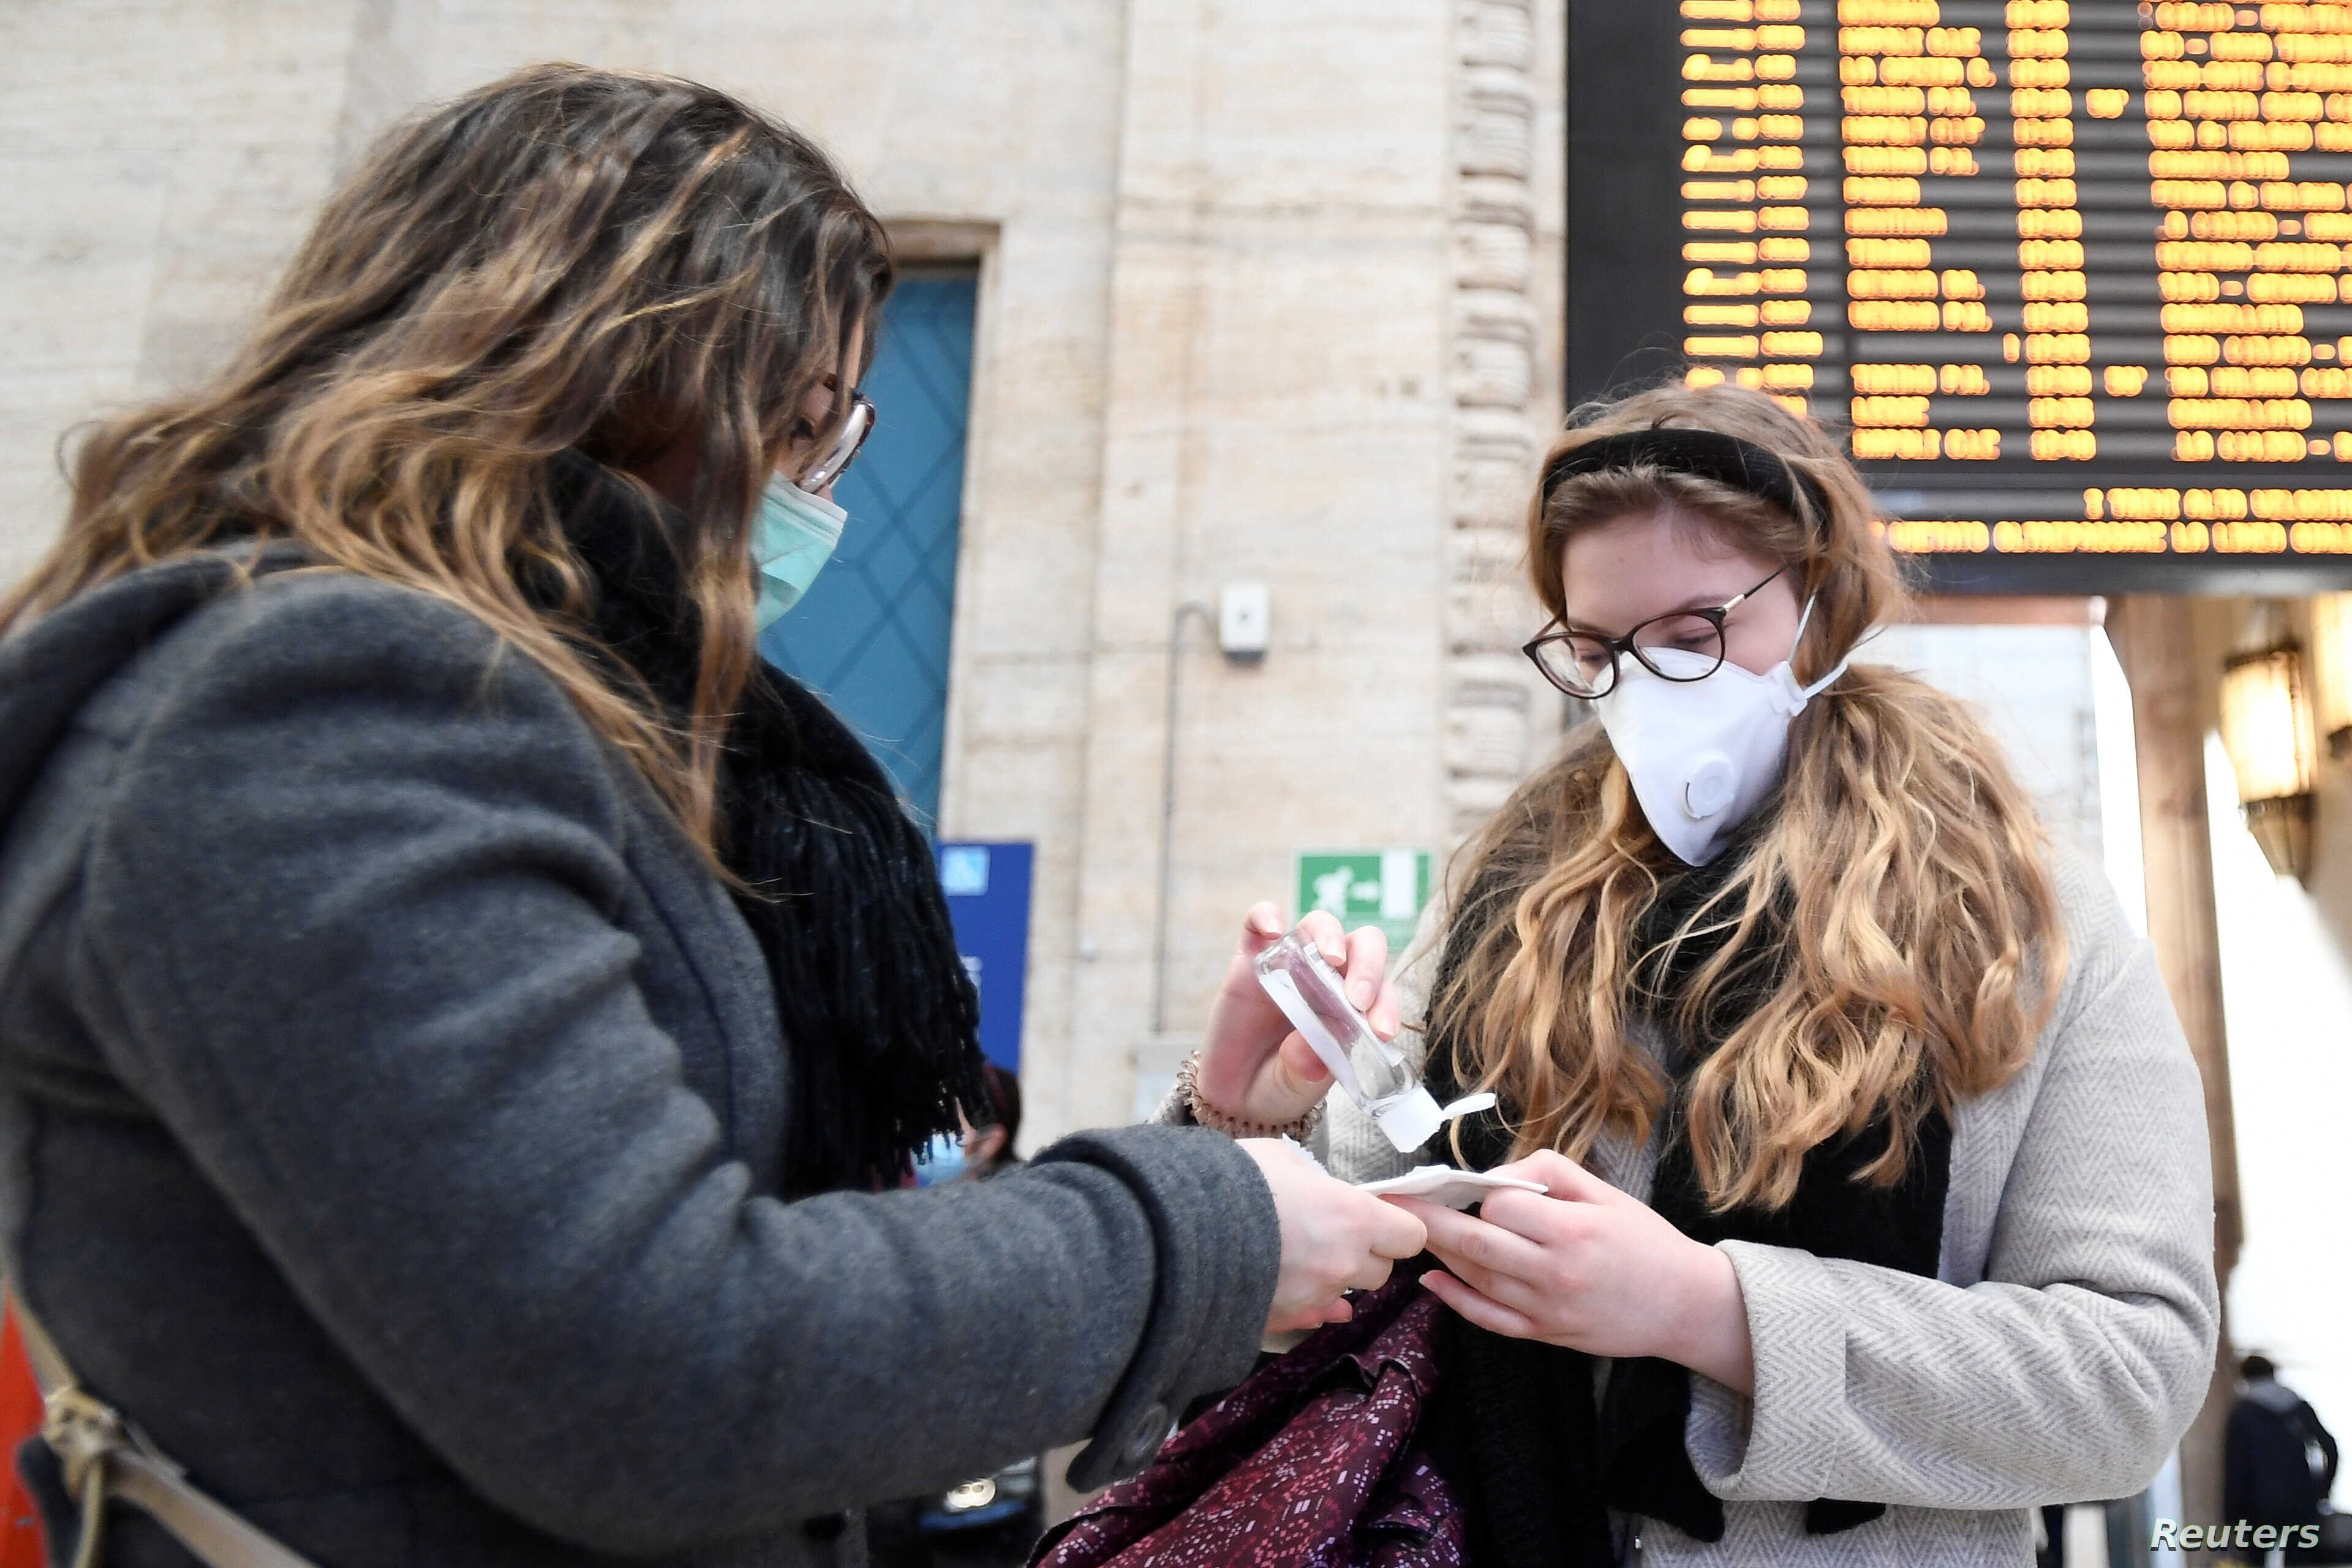face_with_mask: (303, 62, 902, 655), (1518, 388, 1883, 875)
